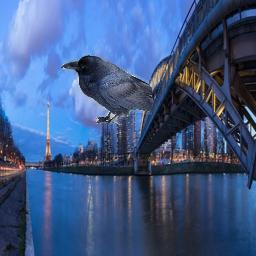Crow: (61, 55, 152, 124)
